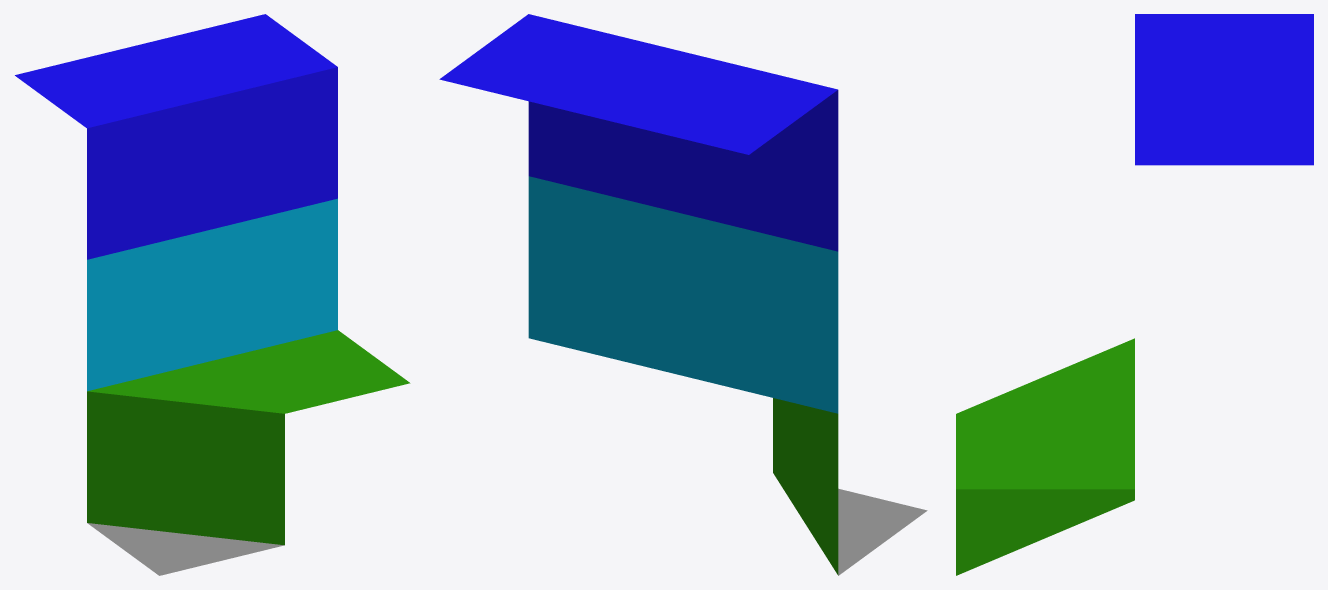
3 renders of one model, left to right at view 1: azimuth 30°, elevation 25°; view 2: azimuth 150°, elevation 25°; view 3: azimuth 270°, elevation 25°, orthographic. The views are drawn at different scales.
Visible parts, largest first — view 1: T_33b_0_0; view 2: T_33b_0_0; view 3: T_33b_0_0.
Part boxes in pixels (bbox=[...]): T_33b_0_0: bbox=[15, 14, 410, 575]; T_33b_0_0: bbox=[439, 14, 927, 575]; T_33b_0_0: bbox=[956, 14, 1313, 575].
Bounding box in the file's own units: 99.79 × 150 × 99.81.
